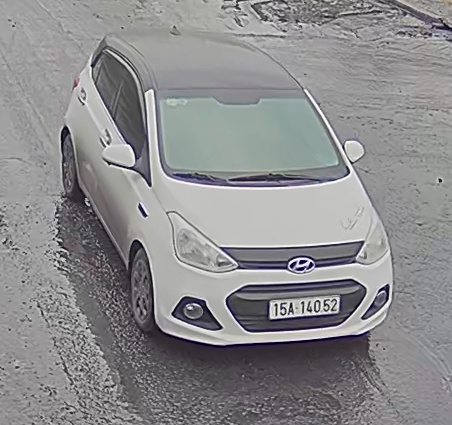vehicle plate: (265, 294, 346, 319)
